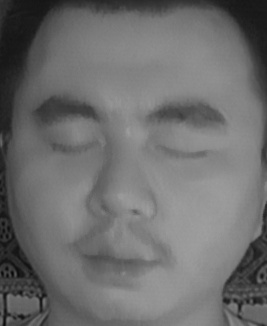blink: (48, 126, 105, 166), (154, 133, 208, 169)
mouth: (77, 227, 167, 291)
